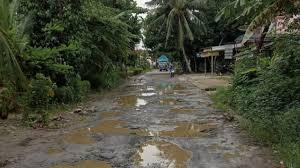Pothole: (153, 113, 220, 147), (44, 127, 107, 160), (89, 106, 156, 136), (129, 141, 191, 168), (155, 95, 211, 116), (110, 88, 165, 108), (212, 143, 261, 163), (51, 156, 123, 167), (160, 73, 190, 99), (127, 79, 149, 90)
